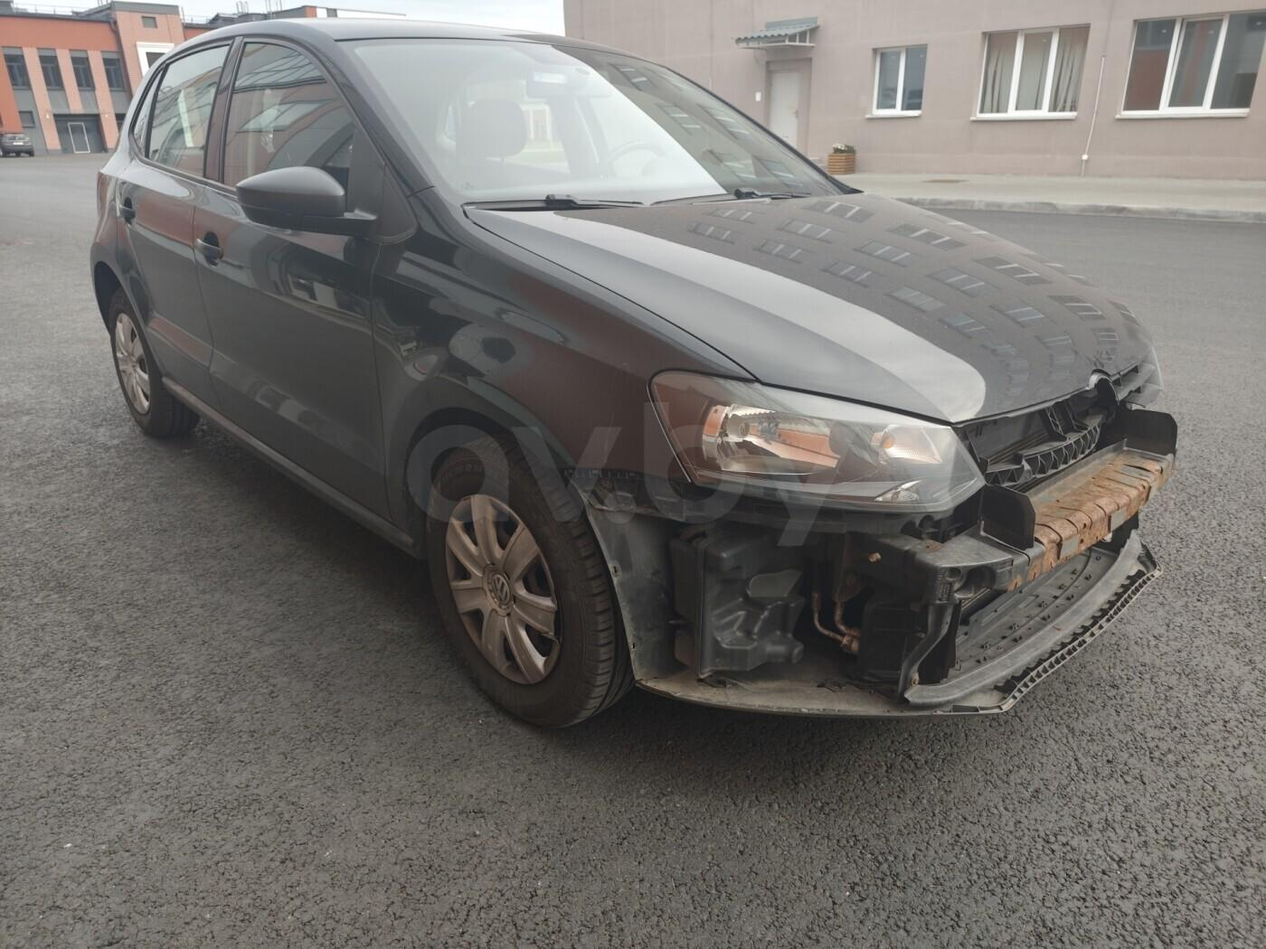Polo_2009-2015: (88, 0, 1185, 786)
